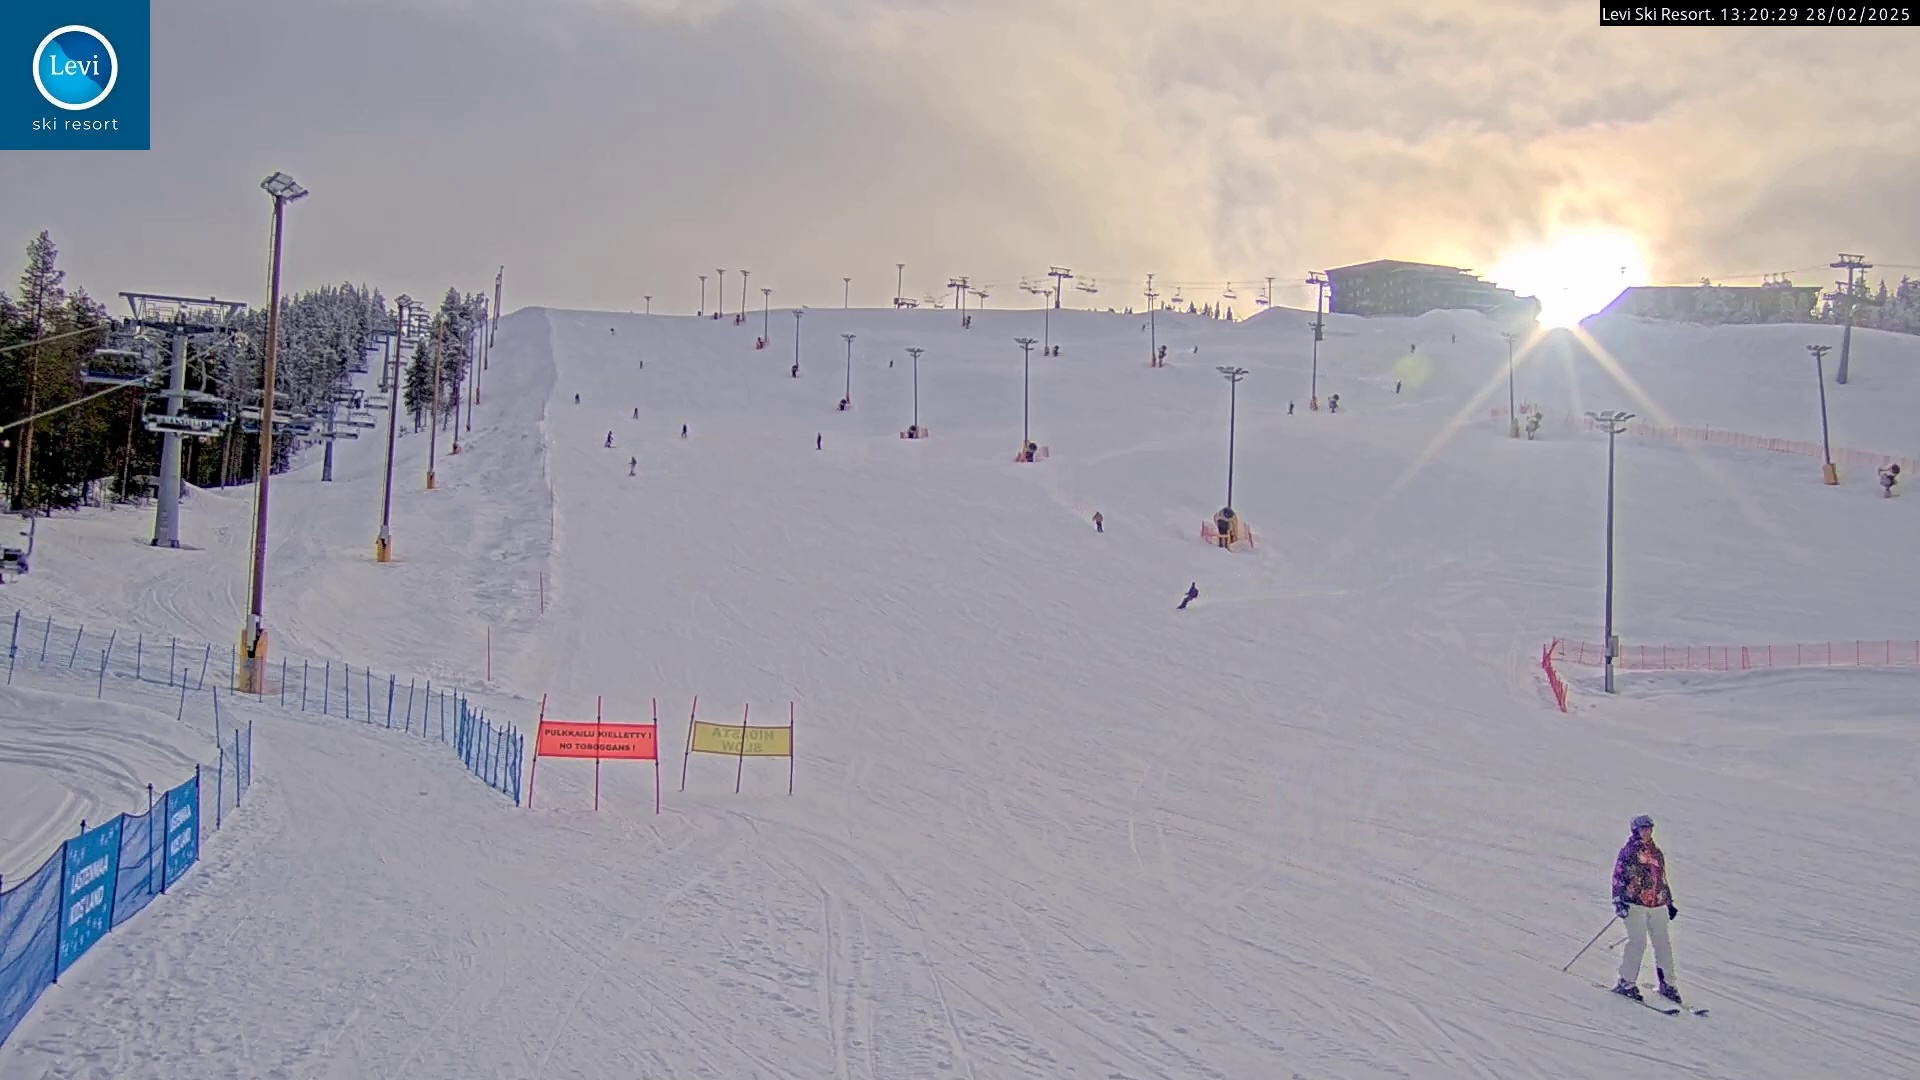skier: (1563, 812, 1712, 1021)
